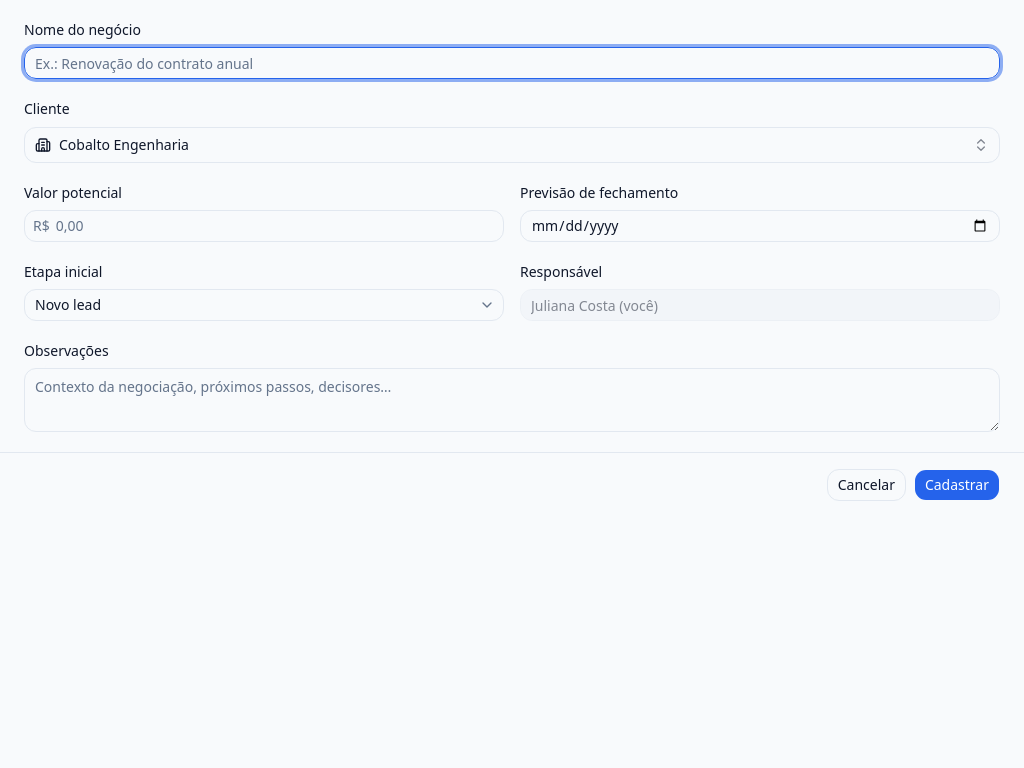
Test: DealForm › valida nome e valor antes de enviar
Click the button "Cadastrar" at {"x": 957, "y": 485}, box [914,469,1000,501]
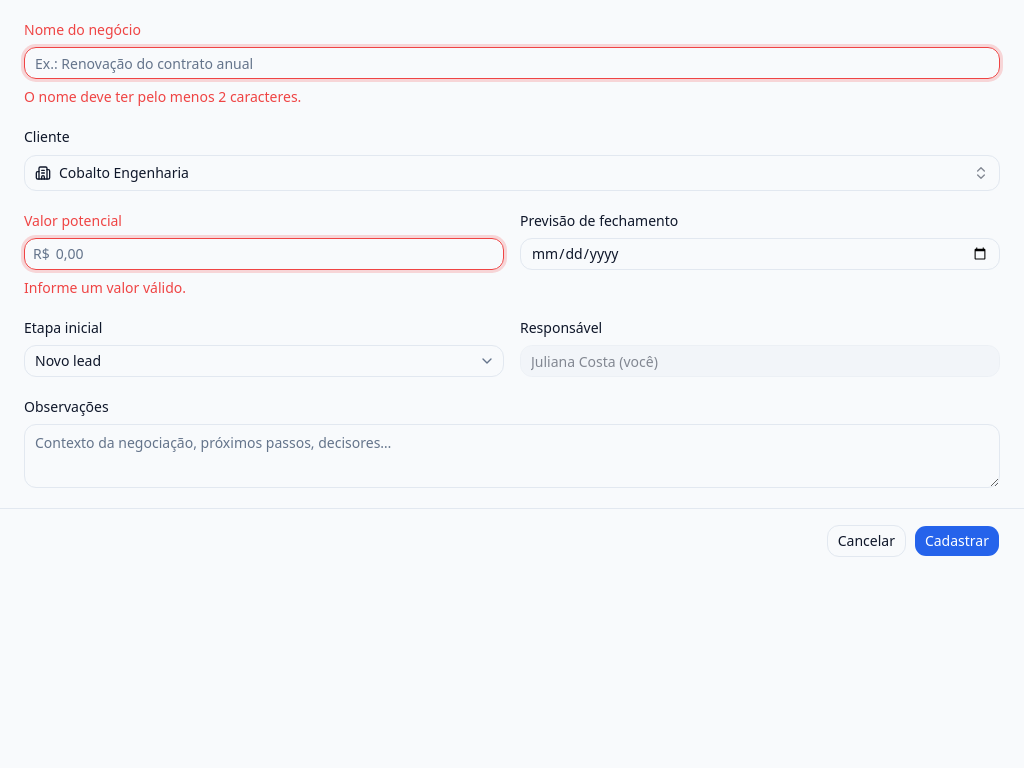
Check: the text "O nome deve ter pelo menos 2 caracteres." is shown, box [24,87,301,106]
Check: the text "Informe um valor válido." is shown, box [24,278,186,297]
